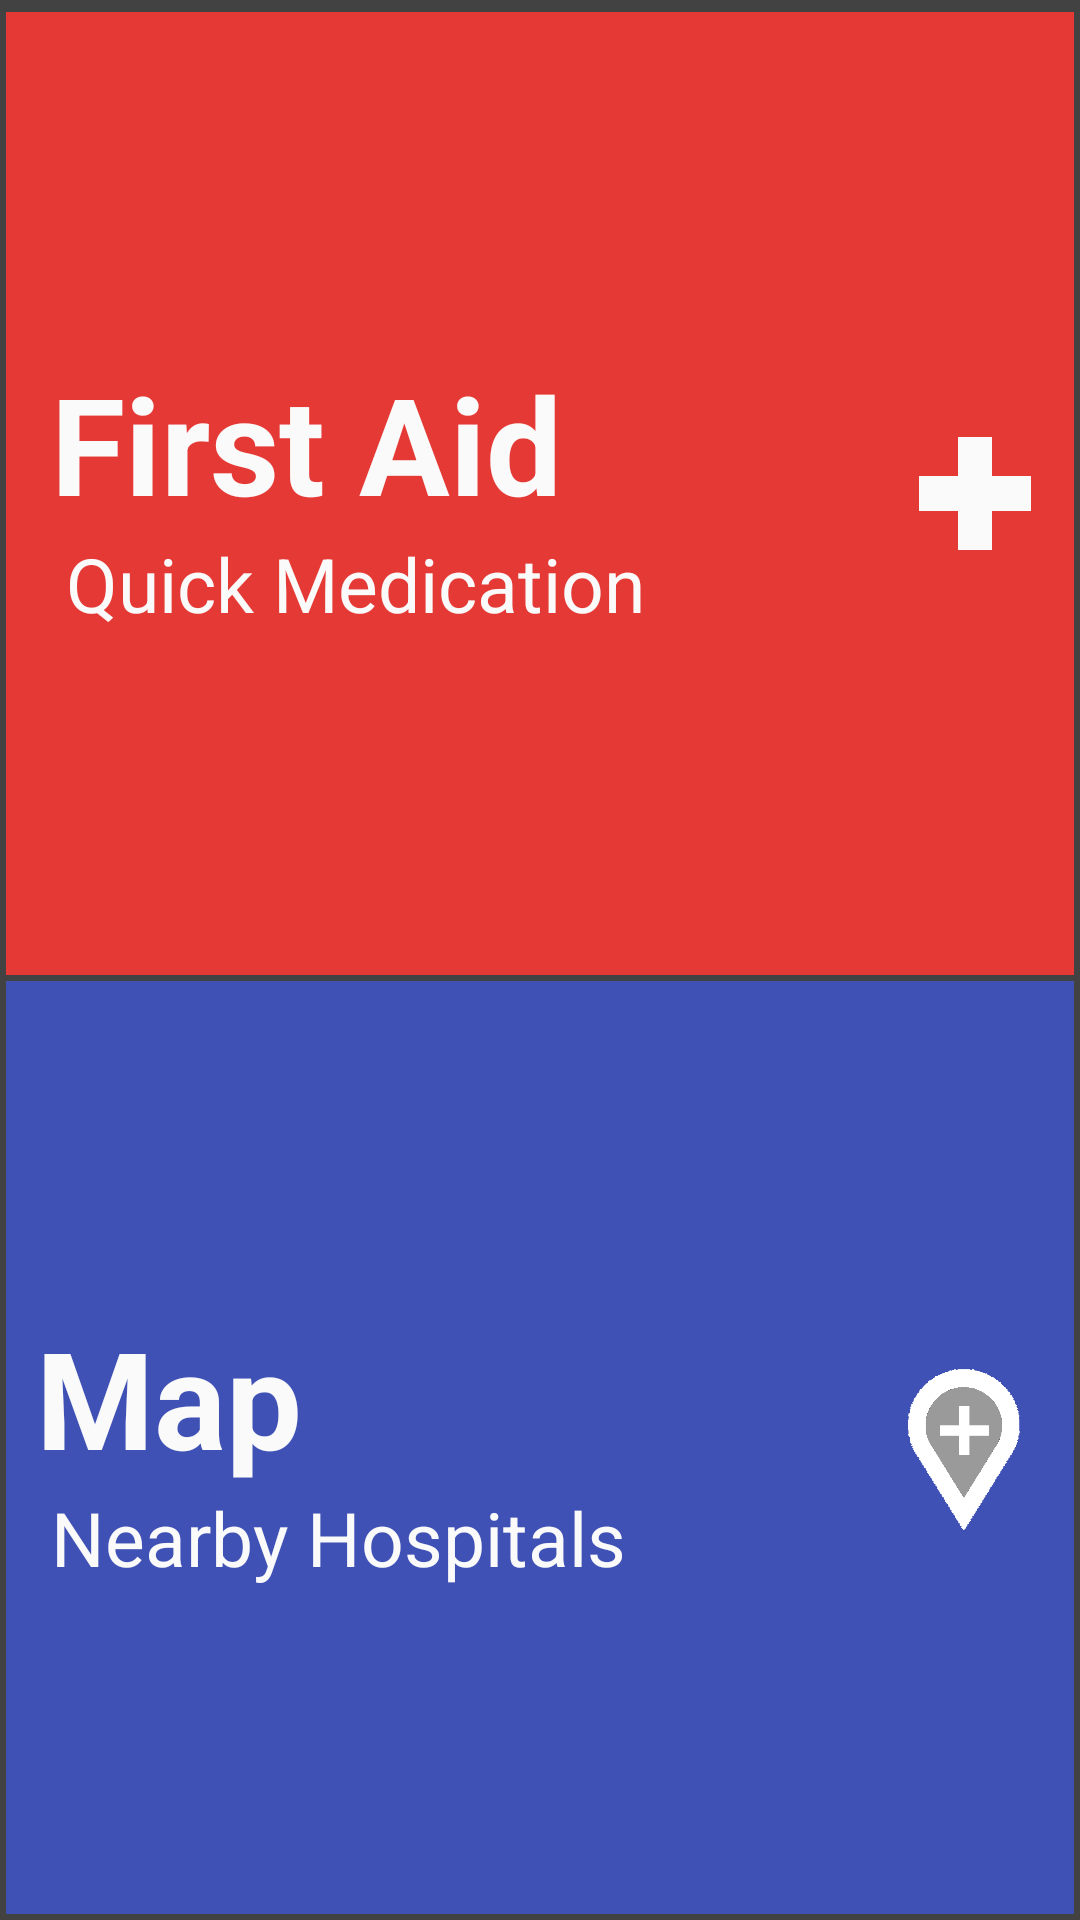

Icon click points for this 1080 x 1920 phone screenshot, format (x=x, y=y):
First Aid Image: (x=975, y=493)
Map Image: (x=964, y=1449)
